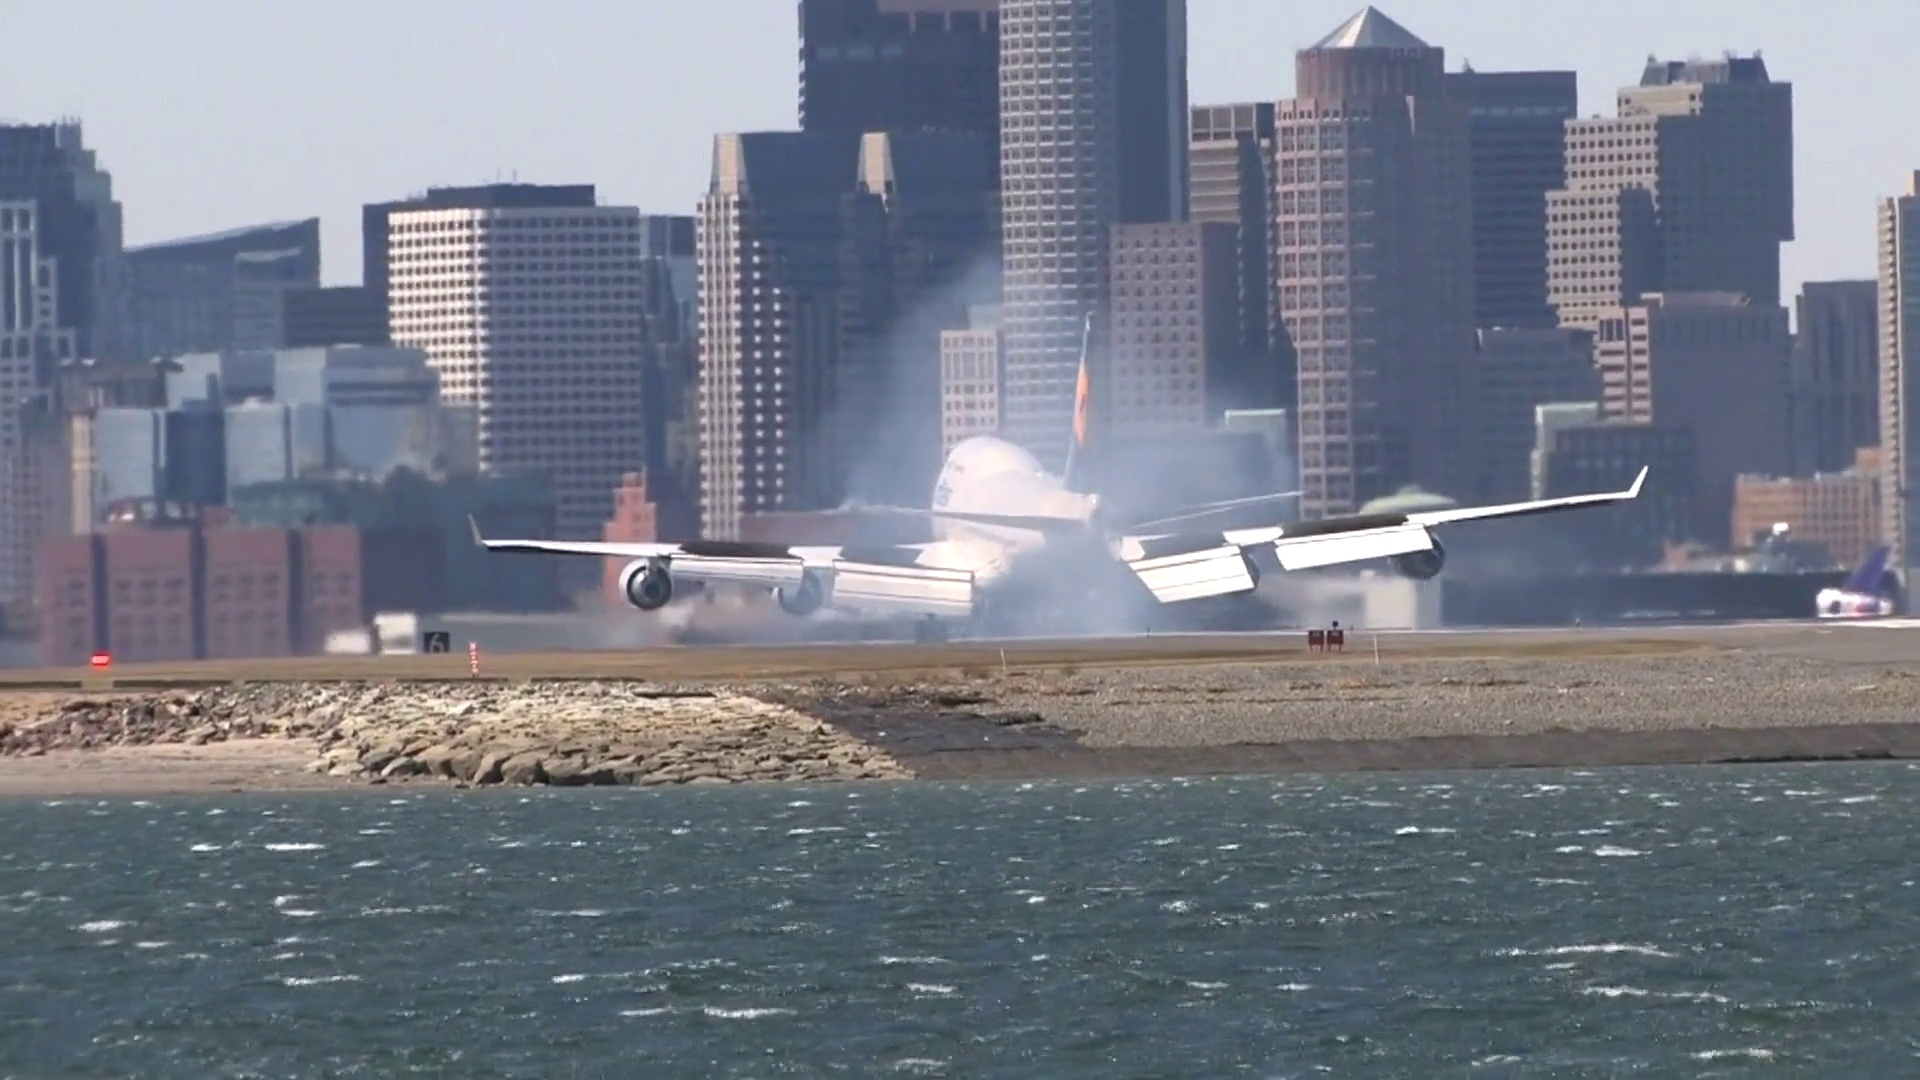plane: (464, 310, 1652, 642)
